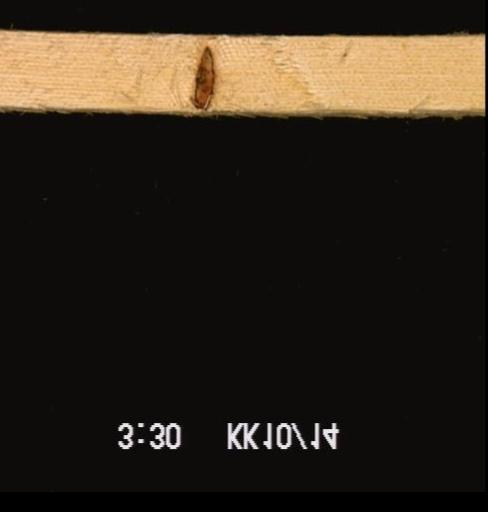edge_knot: (187, 43, 216, 112)
